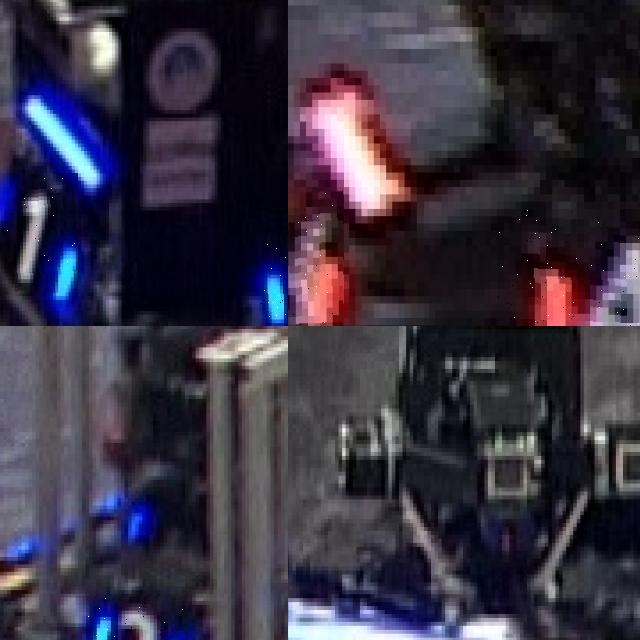B1: (0, 173, 78, 296)
B2: (76, 595, 190, 640)
R4: (496, 208, 640, 326), (288, 187, 343, 326)
